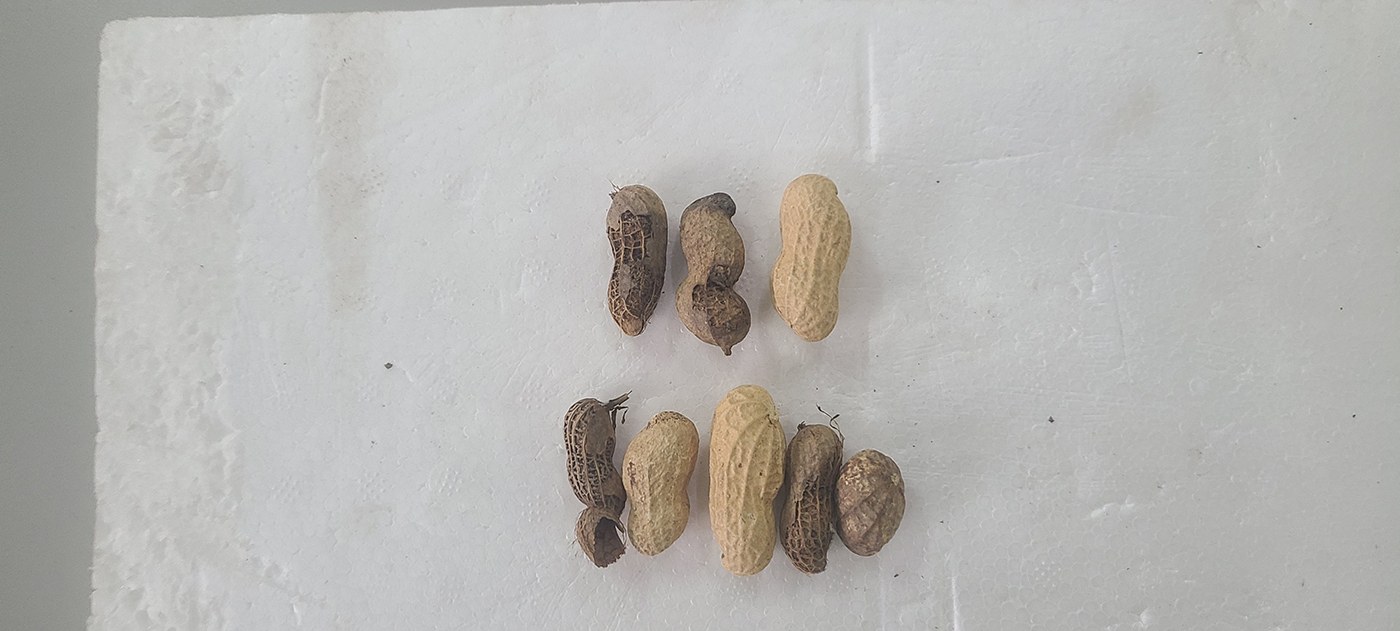h: (709, 387, 786, 576), (769, 174, 852, 340), (621, 412, 699, 556)
l: (675, 192, 751, 354), (563, 399, 626, 566), (604, 181, 669, 337), (781, 422, 843, 575), (832, 449, 906, 559)
